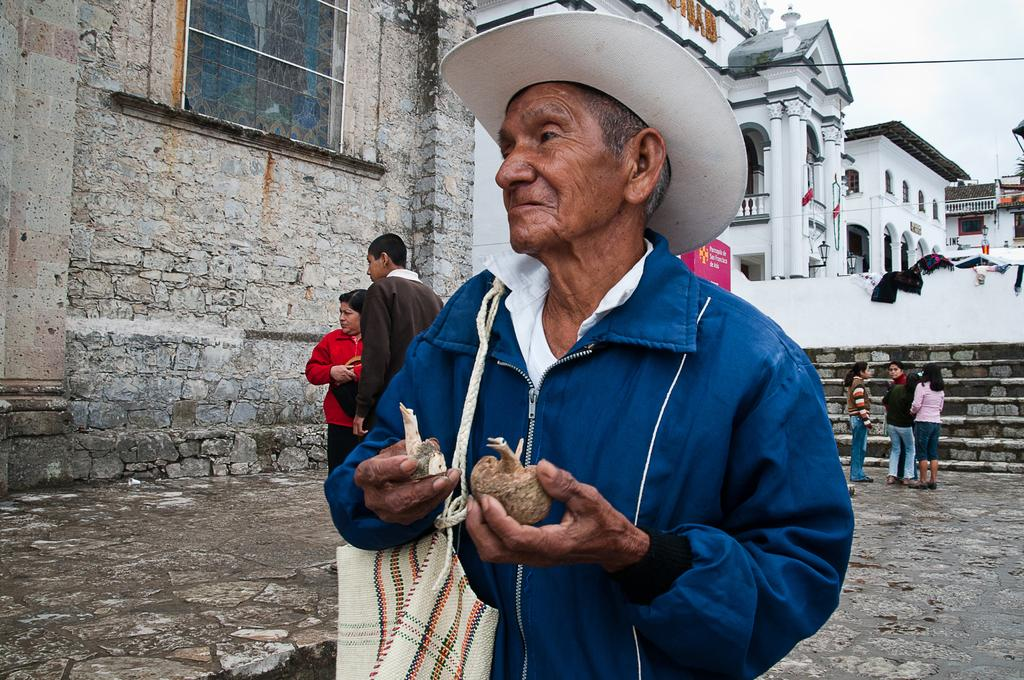Hat: (436, 9, 748, 259)
